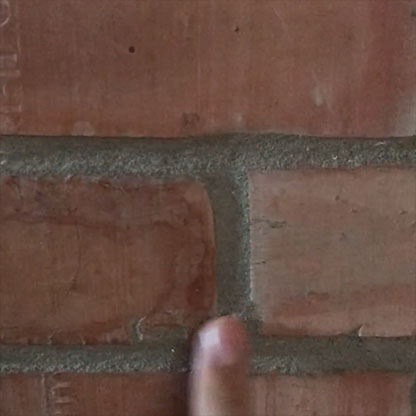fingertip: (192, 309, 259, 385)
